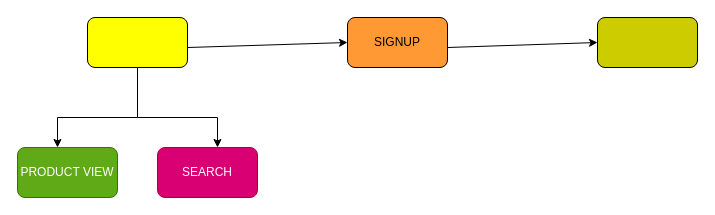
Some shapes in this 715 by 215 pixel diagram are drawn without their labels. The shapes that lost their labels are listed below. From the top down, each one's centre as x and y in pixels, then its label:
At (137,42): "USER".
At (647,42): "LOGIN".
